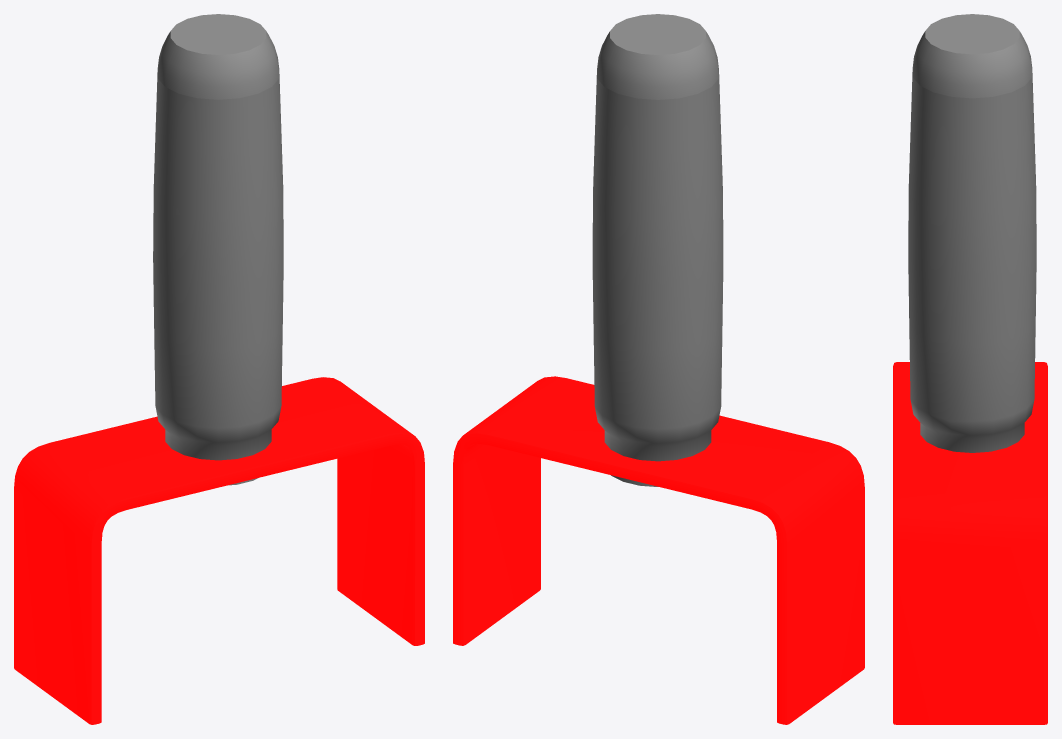
The model's file is leverstickplussupport.FBX.
3 views of the same model, side by side, from view 1: azimuth 30°, elevation 25°; view 2: azimuth 150°, elevation 25°; view 3: azimuth 270°, elevation 25° (orthographic).
Parts seen in each view (by area): view 1: Cylinder004; view 2: Cylinder004; view 3: Cylinder004.
Boxes of the visible parts, box(x1,y1,x2,y2) form: Cylinder004: box(14, 14, 424, 724); Cylinder004: box(453, 14, 864, 724); Cylinder004: box(893, 14, 1047, 724).
Bounding box in the file's own units: 46.56 × 82.43 × 18.93.
